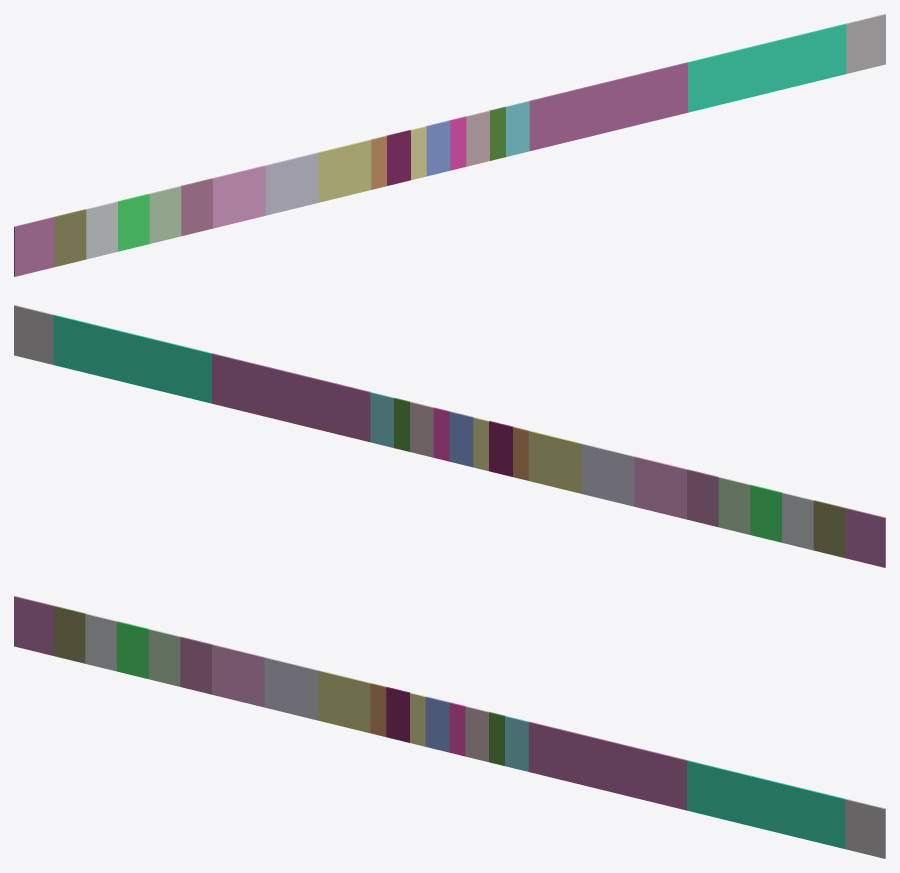
The model's file is Elements_Spatial_Grid1d.glb.
The picture shows the model from 3 angles, top to bottom: view 1: azimuth 30°, elevation 25°; view 2: azimuth 150°, elevation 25°; view 3: azimuth 330°, elevation 25°; orthographic projection.
Visible parts, largest first — view 1: c5f386f7-2d79-469c-b02a-ee5767450150_mesh, 1730804c-401f-44ea-b258-c15763854a0f_mesh, a84522e1-25fe-4880-b361-3a6fb068ae65_mesh, ae748aa4-b68c-493d-b3df-fd555b0192e7_mesh, 74b7306b-16cc-486f-8bee-0200dc2e5f2c_mesh, 1de60c04-feb3-4feb-9f06-68b235459641_mesh, 26154ec2-401d-4214-8060-eaae8d3c89af_mesh, 07c01eb0-a46b-465a-8386-db28cd306860_mesh, e0f33267-9063-4725-93b1-fabf417d8387_mesh, 31f4f478-c7ac-4f0b-98f8-283009469b17_mesh, 2329fb79-4437-4a77-9c12-06fa77552e18_mesh, 426d1ec5-f6de-43c4-b953-7c704c9d47ef_mesh (+8 smaller); view 2: c5f386f7-2d79-469c-b02a-ee5767450150_mesh, 1730804c-401f-44ea-b258-c15763854a0f_mesh, a84522e1-25fe-4880-b361-3a6fb068ae65_mesh, ae748aa4-b68c-493d-b3df-fd555b0192e7_mesh, 74b7306b-16cc-486f-8bee-0200dc2e5f2c_mesh, 1de60c04-feb3-4feb-9f06-68b235459641_mesh, 26154ec2-401d-4214-8060-eaae8d3c89af_mesh, 07c01eb0-a46b-465a-8386-db28cd306860_mesh, e0f33267-9063-4725-93b1-fabf417d8387_mesh, 31f4f478-c7ac-4f0b-98f8-283009469b17_mesh, 2329fb79-4437-4a77-9c12-06fa77552e18_mesh, 426d1ec5-f6de-43c4-b953-7c704c9d47ef_mesh (+8 smaller); view 3: 1730804c-401f-44ea-b258-c15763854a0f_mesh, c5f386f7-2d79-469c-b02a-ee5767450150_mesh, ae748aa4-b68c-493d-b3df-fd555b0192e7_mesh, a84522e1-25fe-4880-b361-3a6fb068ae65_mesh, 74b7306b-16cc-486f-8bee-0200dc2e5f2c_mesh, 26154ec2-401d-4214-8060-eaae8d3c89af_mesh, 1de60c04-feb3-4feb-9f06-68b235459641_mesh, 07c01eb0-a46b-465a-8386-db28cd306860_mesh, e0f33267-9063-4725-93b1-fabf417d8387_mesh, 31f4f478-c7ac-4f0b-98f8-283009469b17_mesh, 2329fb79-4437-4a77-9c12-06fa77552e18_mesh, 426d1ec5-f6de-43c4-b953-7c704c9d47ef_mesh (+8 smaller).
Boxes of the visible parts, bbox=[...] form: c5f386f7-2d79-469c-b02a-ee5767450150_mesh: bbox=[687, 23, 846, 112]; 1730804c-401f-44ea-b258-c15763854a0f_mesh: bbox=[529, 62, 687, 150]; a84522e1-25fe-4880-b361-3a6fb068ae65_mesh: bbox=[318, 139, 371, 202]; ae748aa4-b68c-493d-b3df-fd555b0192e7_mesh: bbox=[265, 152, 318, 215]; 74b7306b-16cc-486f-8bee-0200dc2e5f2c_mesh: bbox=[212, 165, 265, 228]; 1de60c04-feb3-4feb-9f06-68b235459641_mesh: bbox=[14, 217, 54, 276]; 26154ec2-401d-4214-8060-eaae8d3c89af_mesh: bbox=[846, 14, 885, 73]; 07c01eb0-a46b-465a-8386-db28cd306860_mesh: bbox=[54, 209, 86, 266]; e0f33267-9063-4725-93b1-fabf417d8387_mesh: bbox=[149, 186, 181, 243]; 31f4f478-c7ac-4f0b-98f8-283009469b17_mesh: bbox=[181, 178, 212, 236]; 2329fb79-4437-4a77-9c12-06fa77552e18_mesh: bbox=[85, 201, 117, 259]; 426d1ec5-f6de-43c4-b953-7c704c9d47ef_mesh: bbox=[117, 194, 149, 251]; c5f386f7-2d79-469c-b02a-ee5767450150_mesh: bbox=[53, 314, 212, 403]; 1730804c-401f-44ea-b258-c15763854a0f_mesh: bbox=[212, 353, 370, 441]; a84522e1-25fe-4880-b361-3a6fb068ae65_mesh: bbox=[528, 430, 581, 493]; ae748aa4-b68c-493d-b3df-fd555b0192e7_mesh: bbox=[581, 443, 634, 506]; 74b7306b-16cc-486f-8bee-0200dc2e5f2c_mesh: bbox=[634, 456, 687, 519]; 1de60c04-feb3-4feb-9f06-68b235459641_mesh: bbox=[845, 508, 885, 567]; 26154ec2-401d-4214-8060-eaae8d3c89af_mesh: bbox=[14, 305, 53, 364]; 07c01eb0-a46b-465a-8386-db28cd306860_mesh: bbox=[813, 500, 845, 557]; e0f33267-9063-4725-93b1-fabf417d8387_mesh: bbox=[718, 477, 750, 534]; 31f4f478-c7ac-4f0b-98f8-283009469b17_mesh: bbox=[687, 469, 718, 527]; 2329fb79-4437-4a77-9c12-06fa77552e18_mesh: bbox=[782, 492, 814, 550]; 426d1ec5-f6de-43c4-b953-7c704c9d47ef_mesh: bbox=[750, 485, 782, 542]; 1730804c-401f-44ea-b258-c15763854a0f_mesh: bbox=[528, 721, 687, 810]; c5f386f7-2d79-469c-b02a-ee5767450150_mesh: bbox=[687, 760, 845, 848]; ae748aa4-b68c-493d-b3df-fd555b0192e7_mesh: bbox=[264, 657, 317, 720]; a84522e1-25fe-4880-b361-3a6fb068ae65_mesh: bbox=[317, 670, 370, 732]; 74b7306b-16cc-486f-8bee-0200dc2e5f2c_mesh: bbox=[212, 644, 265, 707]; 26154ec2-401d-4214-8060-eaae8d3c89af_mesh: bbox=[845, 799, 885, 858]; 1de60c04-feb3-4feb-9f06-68b235459641_mesh: bbox=[14, 596, 53, 655]; 07c01eb0-a46b-465a-8386-db28cd306860_mesh: bbox=[53, 605, 85, 663]; e0f33267-9063-4725-93b1-fabf417d8387_mesh: bbox=[148, 629, 180, 686]; 31f4f478-c7ac-4f0b-98f8-283009469b17_mesh: bbox=[180, 636, 212, 694]; 2329fb79-4437-4a77-9c12-06fa77552e18_mesh: bbox=[85, 613, 117, 671]; 426d1ec5-f6de-43c4-b953-7c704c9d47ef_mesh: bbox=[117, 621, 148, 678].
Size of the model in its own units: 55 by 3 by 0.1.
